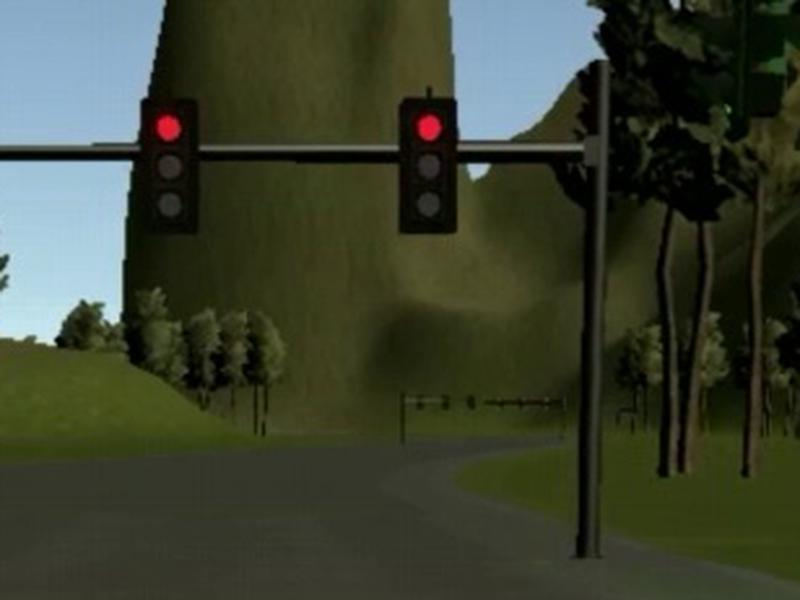Red: (398, 98, 457, 235), (140, 98, 199, 234)
